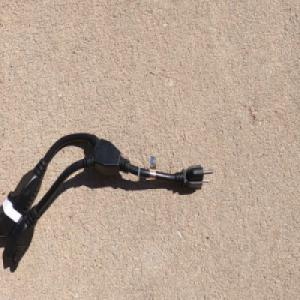Wire: (0, 130, 214, 269)
